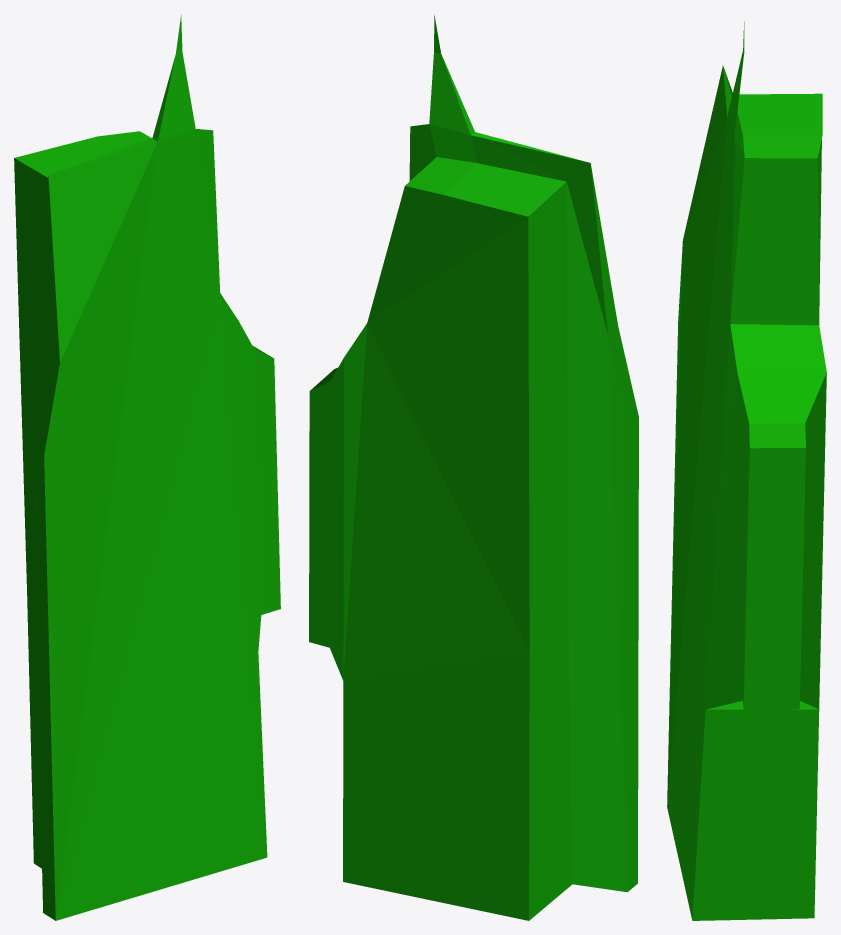
The model's file is b1 collder.FBX.
The picture shows the model from 3 angles, left to right: view 1: azimuth 30°, elevation 25°; view 2: azimuth 150°, elevation 25°; view 3: azimuth 270°, elevation 25°; orthographic projection. The views are drawn at different scales.
Parts seen in each view (by area): view 1: Box002; view 2: Box002; view 3: Box002.
Part boxes in pixels (x1=…): Box002: x1=14, y1=15, x2=280, y2=920; Box002: x1=309, y1=15, x2=638, y2=920; Box002: x1=667, y1=21, x2=826, y2=920.
Bounding box in the file's own units: 65.92 × 196 × 32.48.
